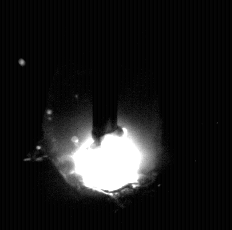arame: (92, 0, 120, 147)
poca: (46, 0, 160, 230)
